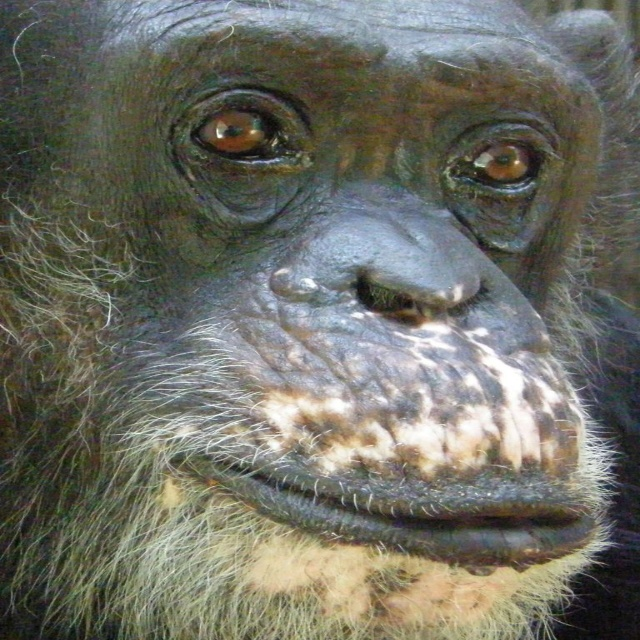Monkey: (0, 0, 634, 640)
